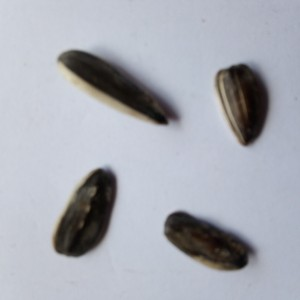girasol: (53, 46, 174, 129), (48, 164, 118, 261), (160, 208, 255, 274), (210, 65, 267, 150)
